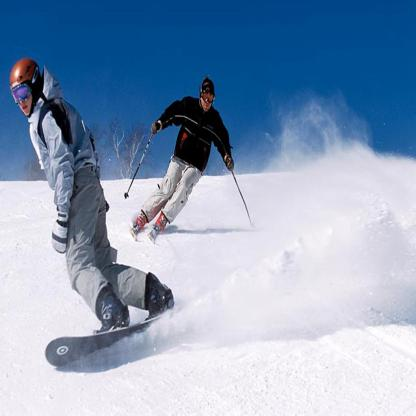face: (11, 85, 34, 116), (202, 91, 213, 111)
